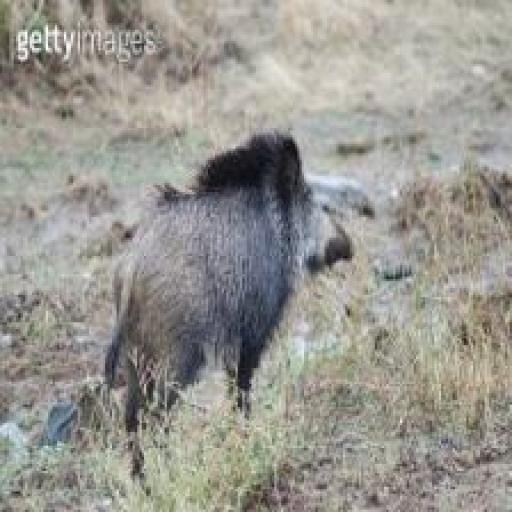Pig: (91, 121, 358, 485)
